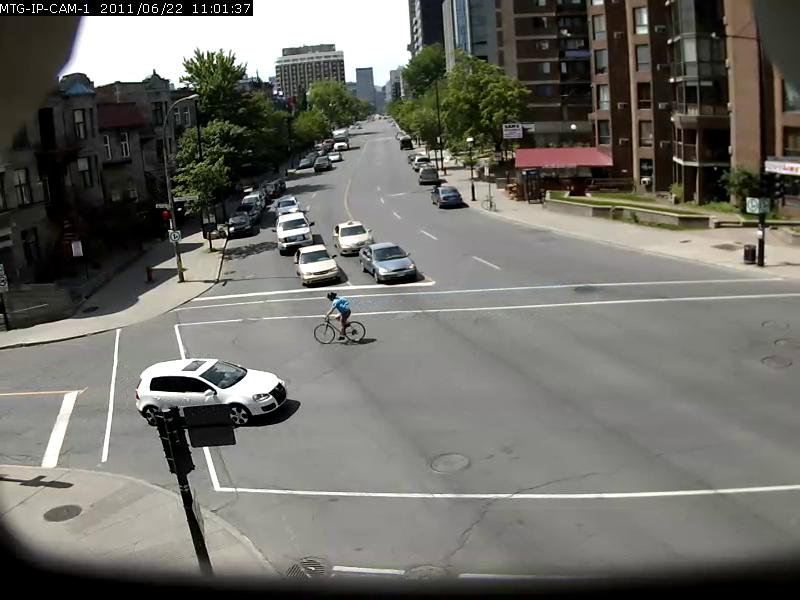car: (135, 359, 287, 427), (359, 243, 417, 284), (294, 245, 342, 287), (274, 213, 314, 254), (333, 221, 374, 256), (276, 197, 301, 217)
